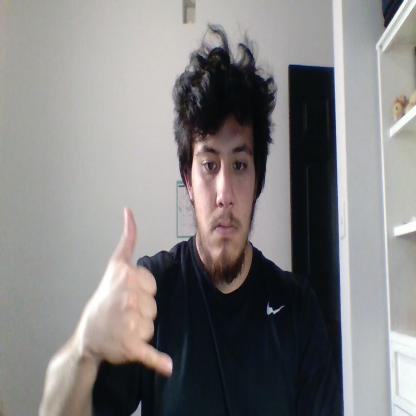Y: (95, 206, 173, 373)
